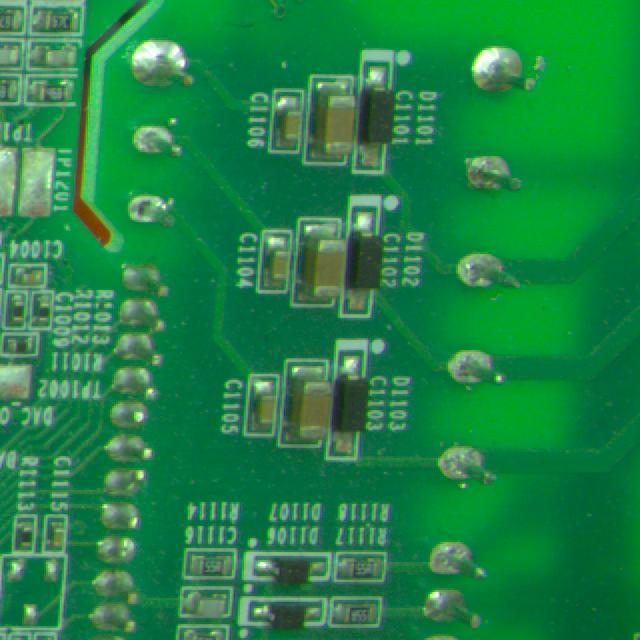Insufficient solder: (436, 342, 522, 414), (432, 435, 512, 496), (462, 147, 525, 205), (416, 574, 486, 626), (423, 532, 490, 583), (450, 249, 511, 300), (119, 188, 178, 234)
